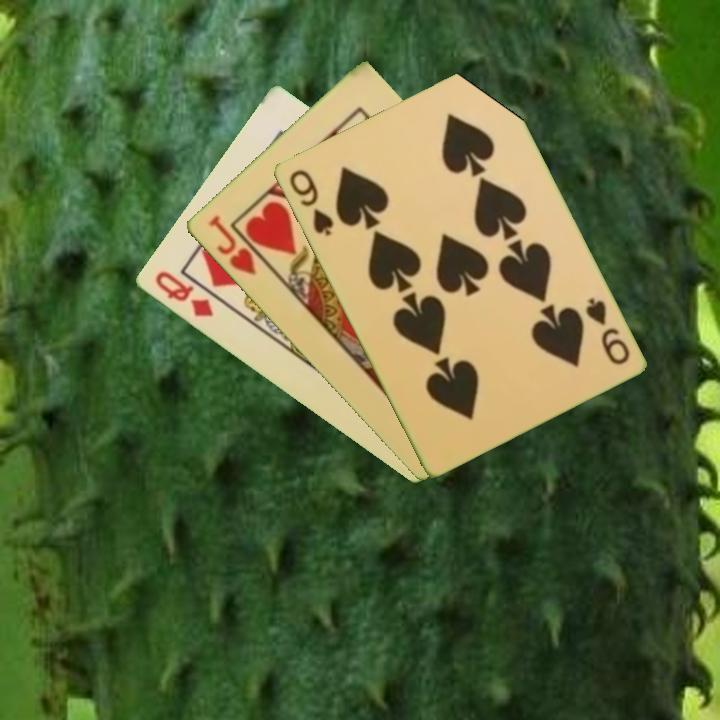9s: (581, 293, 632, 368), (285, 165, 336, 239)
Jh: (204, 211, 272, 278)
Qd: (150, 267, 216, 320)
